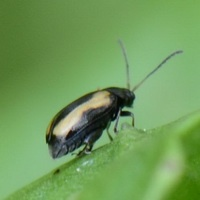insect: (46, 42, 182, 158)
